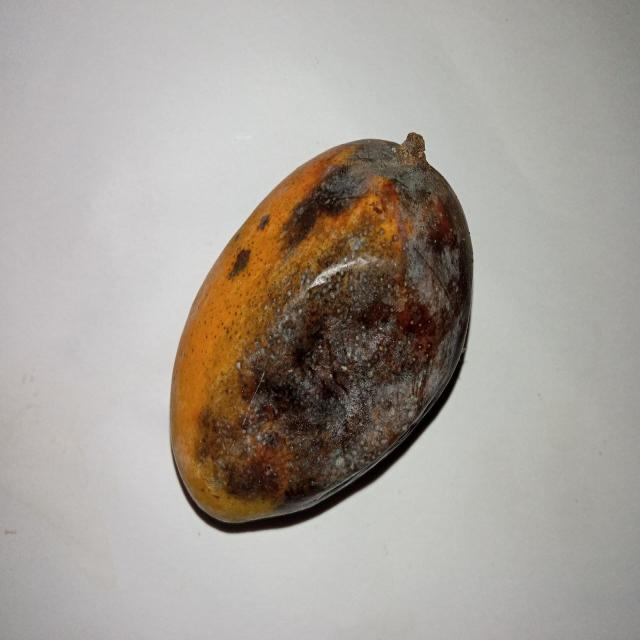rotten_mango: (166, 136, 472, 531)
